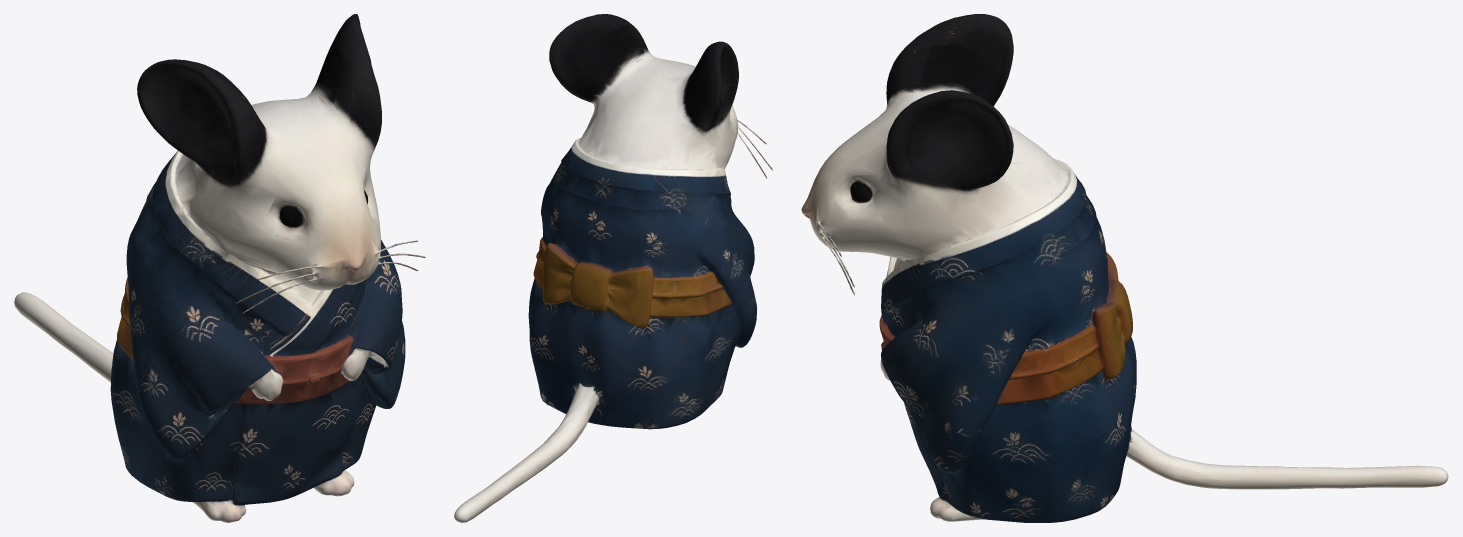
Rendered from costume-kimono_chinchilla-white-pied.glb.
3 views of the same model, side by side, from view 1: azimuth 30°, elevation 25°; view 2: azimuth 150°, elevation 25°; view 3: azimuth 270°, elevation 25° (orthographic). The views are drawn at different scales.
Visible parts, largest first — view 1: Mesh_0; view 2: Mesh_0; view 3: Mesh_0.
Boxes of the visible parts, left/top/right/bottom form: Mesh_0: left=14, top=14, right=425, bottom=522; Mesh_0: left=454, top=14, right=772, bottom=522; Mesh_0: left=801, top=14, right=1448, bottom=522.
Bounding box in the file's own units: 0.8461 × 1.41 × 1.9.
Materials: 1 (1 with a texture image).
